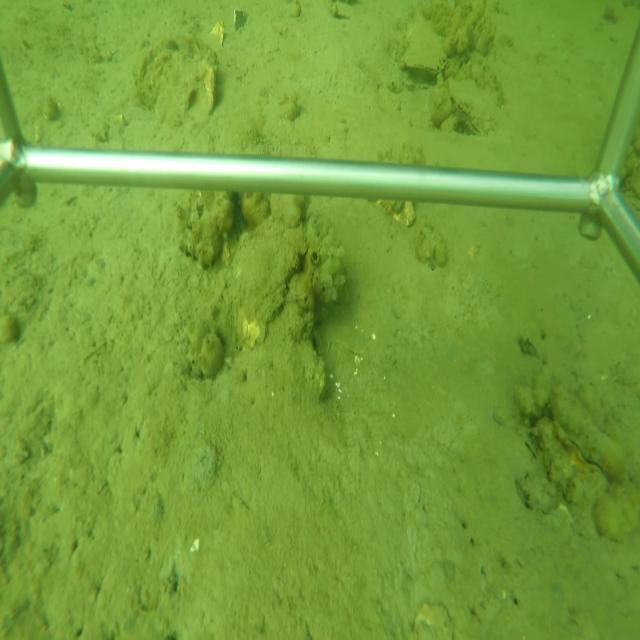Oyster-Closed: (548, 370, 628, 489), (398, 18, 450, 79), (449, 77, 492, 137)
Oyster-Indeterminate: (225, 215, 307, 351)
